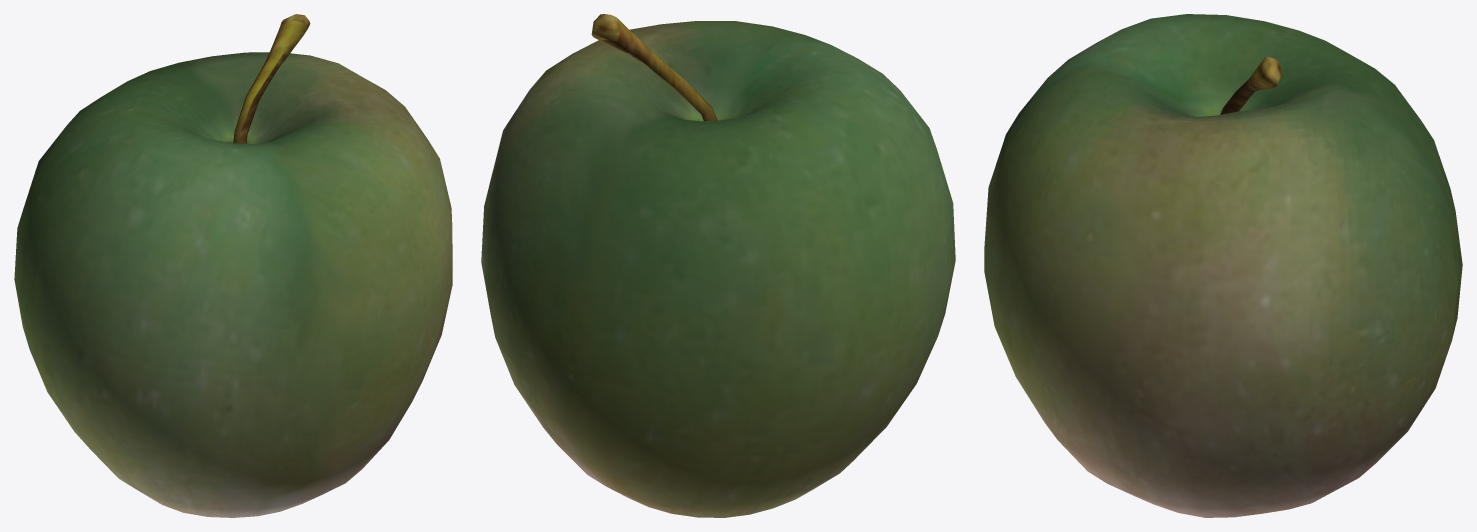
File: apple02_skyrim_edited.obj
3 views of the same model, side by side, from view 1: azimuth 30°, elevation 25°; view 2: azimuth 150°, elevation 25°; view 3: azimuth 270°, elevation 25° (orthographic). The views are drawn at different scales.
Parts seen in each view (by area): view 1: Apple_2; view 2: Apple_2; view 3: Apple_2.
Part boxes in pixels (left/top/right/bottom): Apple_2: left=14, top=14, right=452, bottom=517; Apple_2: left=481, top=14, right=955, bottom=517; Apple_2: left=984, top=14, right=1462, bottom=517.
Bounding box in the file's own units: 0.1139 × 0.1235 × 0.114.
